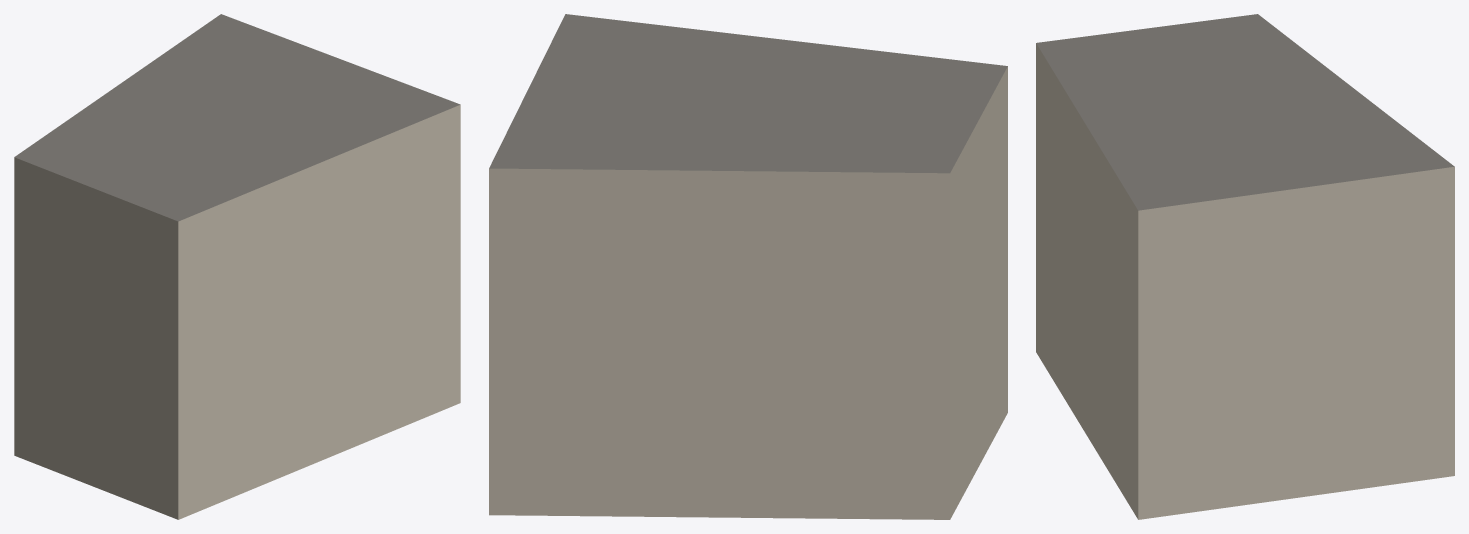
The picture shows the model from 3 angles, left to right: view 1: azimuth 30°, elevation 25°; view 2: azimuth 150°, elevation 25°; view 3: azimuth 270°, elevation 25°; orthographic projection. The views are drawn at different scales.
Visible parts, largest first — view 1: HP-w1197047252; view 2: HP-w1197047252; view 3: HP-w1197047252.
Part boxes in pixels (box(x1,y1,x2,y2)): HP-w1197047252: box(14, 14, 460, 519); HP-w1197047252: box(489, 14, 1007, 519); HP-w1197047252: box(1036, 14, 1454, 519).
Bounding box in the file's own units: 24.55 × 18 × 22.09.
